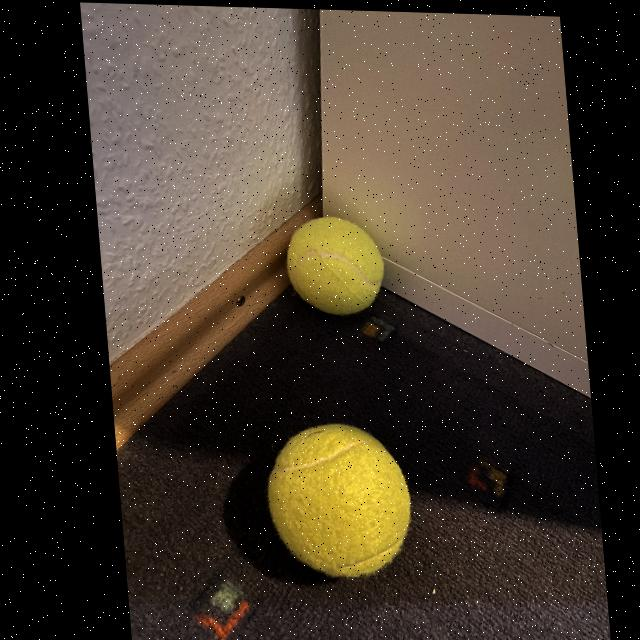Tennisball: (267, 424, 410, 577), (287, 217, 384, 315)
